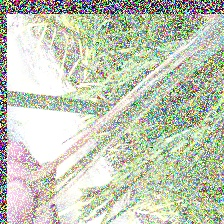Leaf_Blast: (29, 92, 132, 170)
